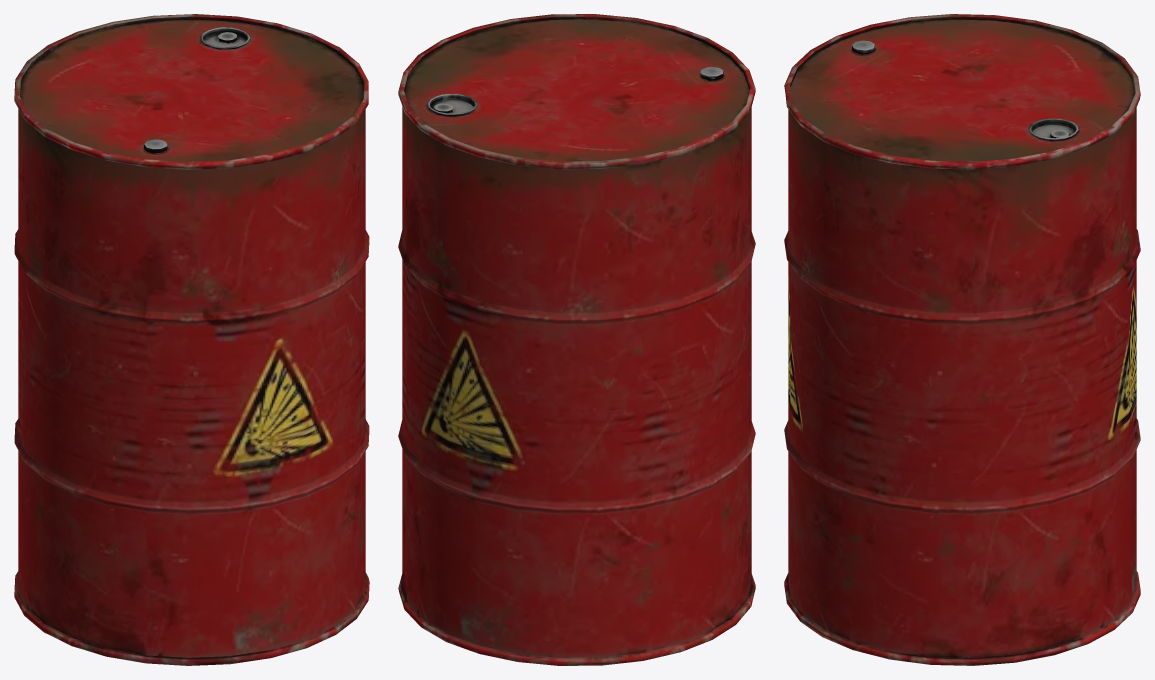
File: drumRed.glb
3 views of the same model, side by side, from view 1: azimuth 30°, elevation 25°; view 2: azimuth 150°, elevation 25°; view 3: azimuth 270°, elevation 25° (orthographic).
Parts seen in each view (by area): view 1: Barrel_01; view 2: Barrel_01; view 3: Barrel_01.
Part boxes in pixels (x1,y1,x2,y2): Barrel_01: (14,14,369,665); Barrel_01: (398,14,755,665); Barrel_01: (784,14,1140,665).
Bounding box in the file's own units: 0.5631 × 0.88 × 0.5631.
1 material, 1 textured.
